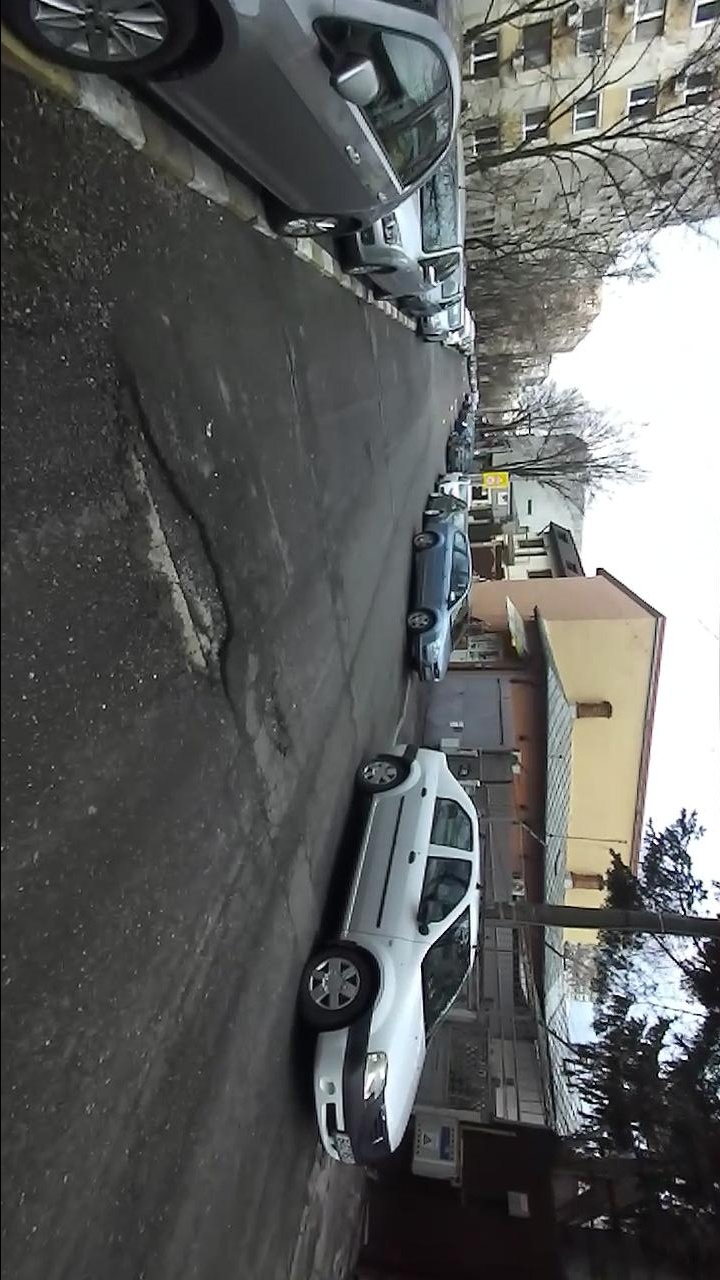pothole: (105, 347, 241, 730), (257, 672, 299, 764)
